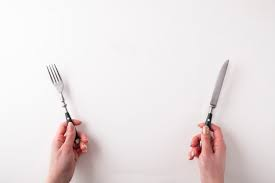knife: (203, 52, 232, 158)
